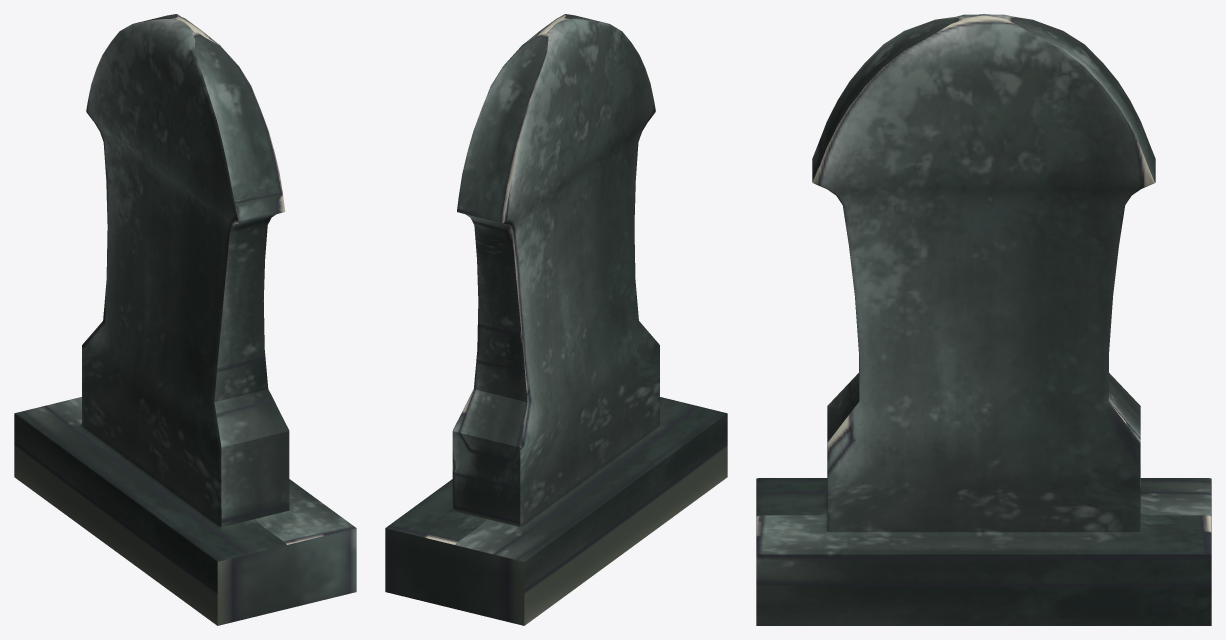
Rendered from gravestoneslol.fbx.
The picture shows the model from 3 angles, left to right: view 1: azimuth 30°, elevation 25°; view 2: azimuth 150°, elevation 25°; view 3: azimuth 270°, elevation 25°; orthographic projection. The views are drawn at different scales.
Parts seen in each view (by area): view 1: Gravestone3; view 2: Gravestone3; view 3: Gravestone3.
Boxes of the visible parts, bbox=[...] form: Gravestone3: bbox=[14, 14, 356, 625]; Gravestone3: bbox=[385, 14, 727, 625]; Gravestone3: bbox=[756, 14, 1211, 625].
Size of the model in its own units: 116 by 408 by 294.
1 material, 1 textured.
